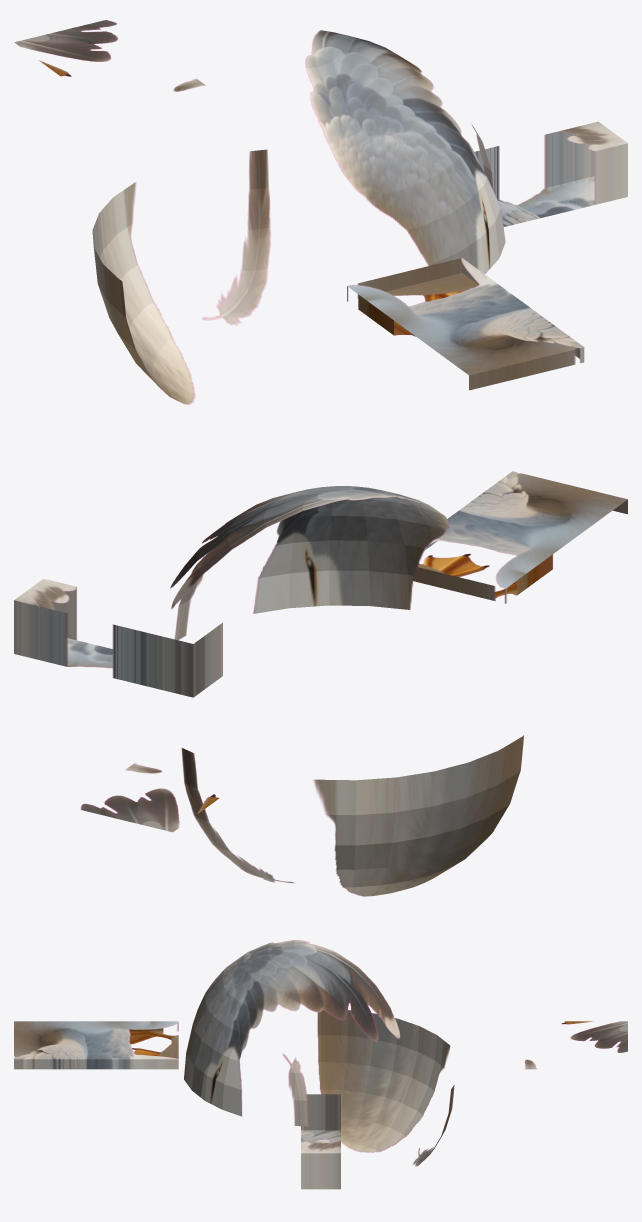
File: gull.glb
3 renders of one model, top to bottom at view 1: azimuth 30°, elevation 25°; view 2: azimuth 150°, elevation 25°; view 3: azimuth 270°, elevation 25°, orthographic. The views are drawn at different scales.
Parts seen in each view (by area): view 1: gull; view 2: gull; view 3: gull.
Part boxes in pixels (x1,y1,x2,y2): gull: [14, 20, 627, 404]; gull: [14, 471, 627, 896]; gull: [14, 940, 627, 1189].
Bounding box in the file's own units: 0.77 × 0.56 × 1.23.
1 material, 1 textured.
